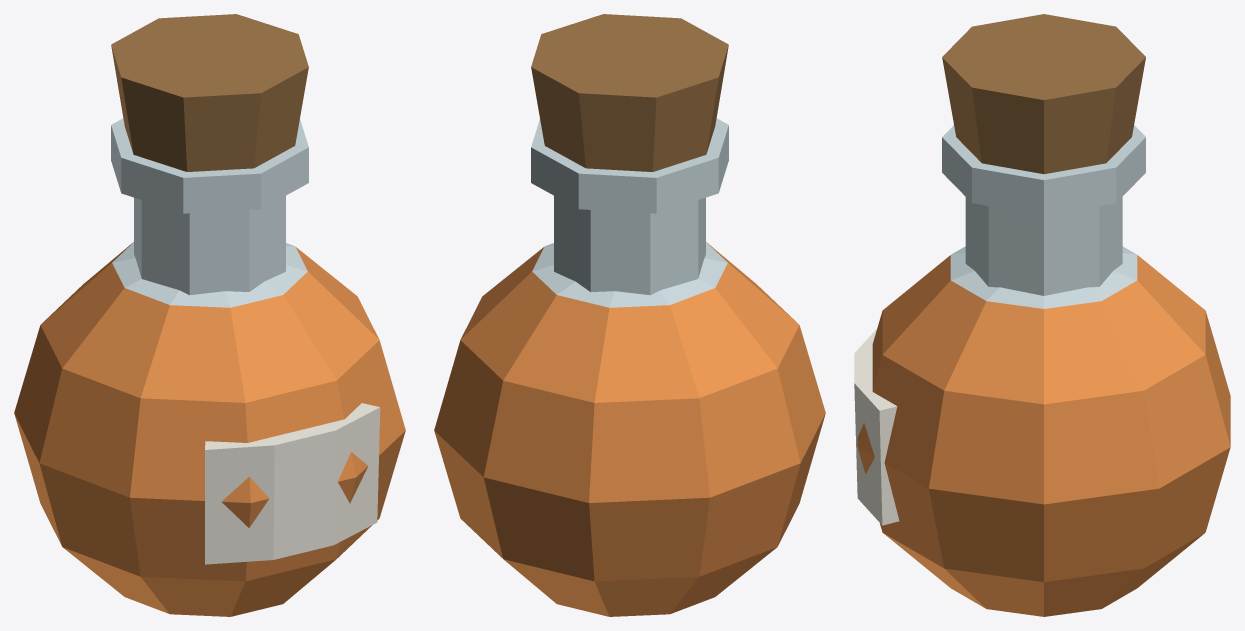
File: vfem2_draught_immunization.obj
The picture shows the model from 3 angles, left to right: view 1: azimuth 30°, elevation 25°; view 2: azimuth 150°, elevation 25°; view 3: azimuth 270°, elevation 25°; orthographic projection.
Parts seen in each view (by area): view 1: vfem2_draught_immunization; view 2: vfem2_draught_immunization; view 3: vfem2_draught_immunization.
Boxes of the visible parts, <box> form: vfem2_draught_immunization: <box>14,14,405,616</box>; vfem2_draught_immunization: <box>434,14,825,616</box>; vfem2_draught_immunization: <box>854,14,1230,616</box>.
Size of the model in its own units: 0.2 by 0.305 by 0.1918.
